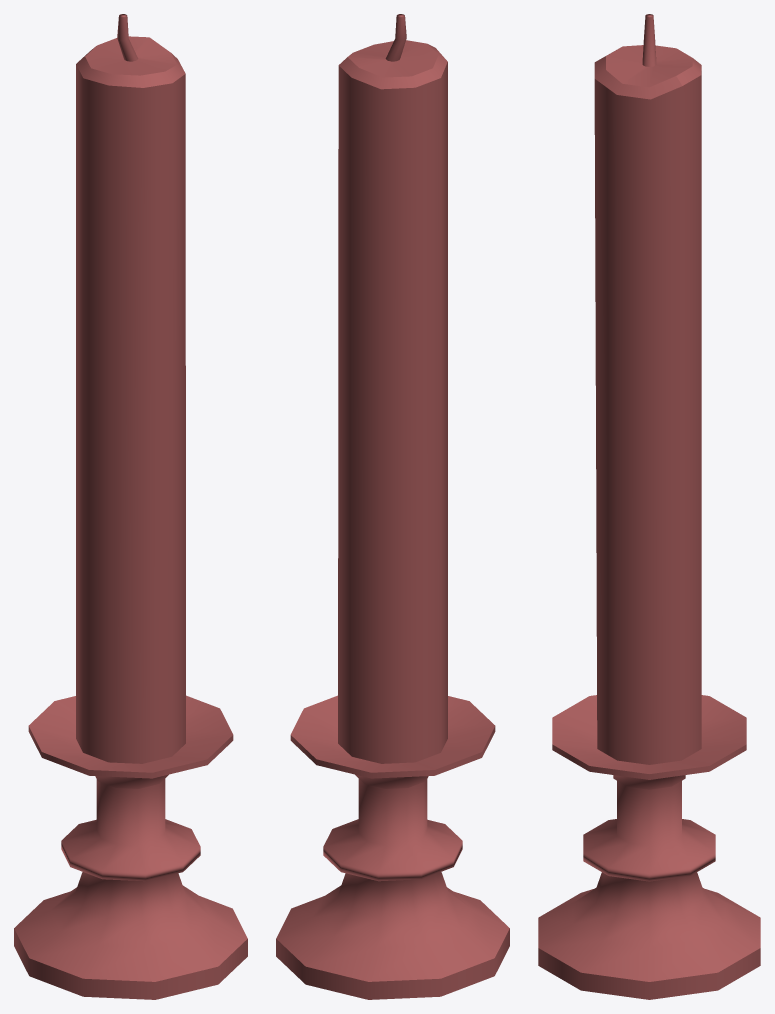
File: Candle.fbx
The picture shows the model from 3 angles, left to right: view 1: azimuth 30°, elevation 25°; view 2: azimuth 150°, elevation 25°; view 3: azimuth 270°, elevation 25°; orthographic projection.
Parts seen in each view (by area): view 1: pCylinder2; view 2: pCylinder2; view 3: pCylinder2.
Part boxes in pixels (bbox=[...]): pCylinder2: bbox=[14, 14, 247, 999]; pCylinder2: bbox=[276, 14, 509, 999]; pCylinder2: bbox=[538, 14, 760, 999].
Bounding box in the file's own units: 2 × 8.8 × 1.9.
